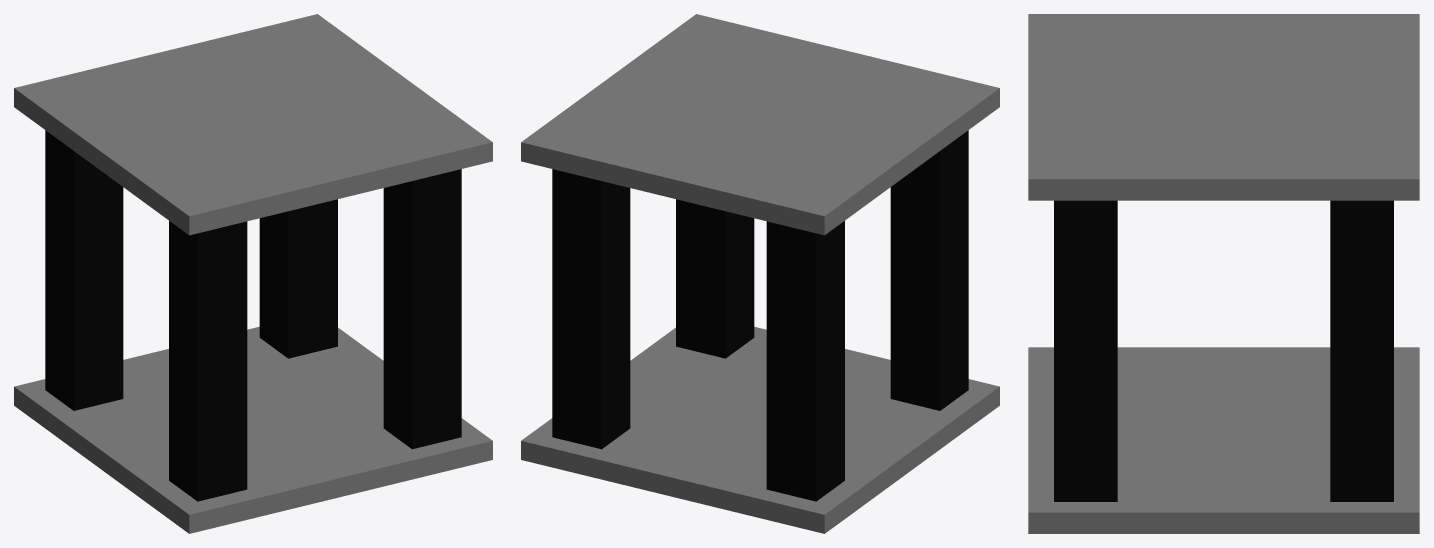
The model's file is BlockHollow.fbx.
The picture shows the model from 3 angles, left to right: view 1: azimuth 30°, elevation 25°; view 2: azimuth 150°, elevation 25°; view 3: azimuth 270°, elevation 25°; orthographic projection. The views are drawn at different scales.
Visible parts, largest first — view 1: Cube.027; view 2: Cube.027; view 3: Cube.027.
Part boxes in pixels (<box>): Cube.027: <box>14,14,492,533</box>; Cube.027: <box>521,14,999,533</box>; Cube.027: <box>1028,14,1419,533</box>.
Size of the model in its own units: 200 by 200 by 200.
